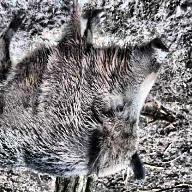boar: (6, 14, 169, 173)
